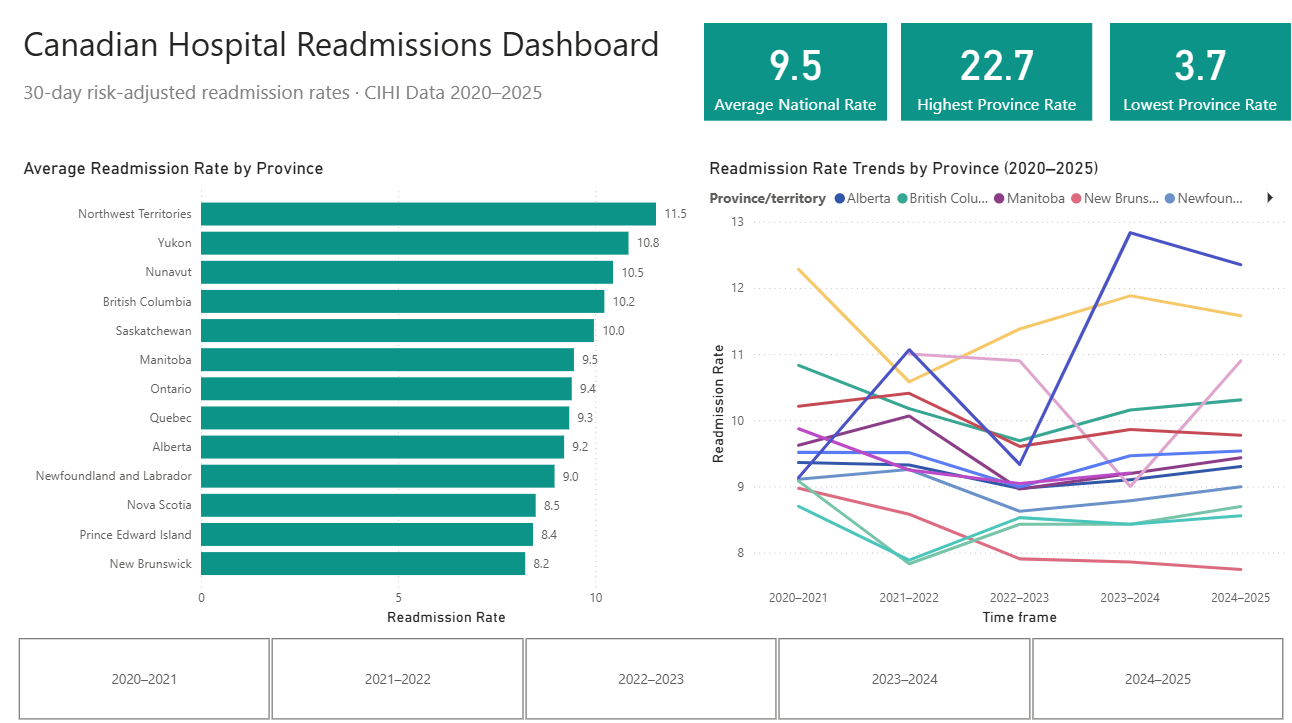

This screenshot's page, from the dashboard's own definition file:
{"tool":"powerbi","page":{"name":"National Overview","canvas":[1280,720],"ordinal":0},"visuals":[{"type":"card","fields":{"Values":["Avg(All Patients Readmitted to Hospital Data.Risk-adjusted rate)"]},"box":[692.5,36.4,178.2,94.9],"z":0},{"type":"card","fields":{"Values":["Max(All Patients Readmitted to Hospital Data.Risk-adjusted rate)"]},"box":[884,36.4,186.2,94.9],"z":1000},{"type":"card","fields":{"Values":["Min(All Patients Readmitted to Hospital Data.Risk-adjusted rate)"]},"box":[1087.1,36.4,175.6,94.9],"z":2000},{"type":"clusteredBarChart","title":"Average Readmission Rate by Province","fields":{"Category":["All Patients Readmitted to Hospital Data.Province/territory"],"Y":["Avg(All Patients Readmitted to Hospital Data.Risk-adjusted rate)"]},"box":[24.8,167.6,667.7,459.3],"z":3000},{"type":"lineChart","title":"Readmission Rate Trends by Province (2020–2025)","fields":{"Y":["Avg(All Patients Readmitted to Hospital Data.Risk-adjusted rate)"],"Category":["All Patients Readmitted to Hospital Data.Time frame"],"Series":["All Patients Readmitted to Hospital Data.Province/territory"]},"box":[692.5,167.6,570.1,459.3],"z":4000},{"type":"slicer","fields":{"Values":["All Patients Readmitted to Hospital Data.Time frame"]},"box":[0,626.9,1280.4,93.1],"z":5000},{"type":"textbox","box":[25.3,28.2,652.6,56.4],"z":6000},{"type":"textbox","box":[24.8,84.2,653.5,67.4],"z":7000}]}

Visuals, with their boxes in screenshot pixels (x1, y1, x2, y2), scaled from the page's 1280x720 canvas onto the 1292x723 screenshot:
card - Avg(All Patients Readmitted to Hospital Data.Risk-adjusted rate): bbox=[699, 37, 879, 132]
card - Max(All Patients Readmitted to Hospital Data.Risk-adjusted rate): bbox=[892, 37, 1080, 132]
card - Min(All Patients Readmitted to Hospital Data.Risk-adjusted rate): bbox=[1097, 37, 1275, 132]
"Average Readmission Rate by Province" clusteredBarChart: bbox=[25, 168, 699, 630]
"Readmission Rate Trends by Province (2020–2025)" lineChart: bbox=[699, 168, 1274, 630]
slicer - All Patients Readmitted to Hospital Data.Time frame: bbox=[0, 630, 1291, 722]
textbox: bbox=[26, 28, 684, 85]
textbox: bbox=[25, 85, 685, 152]
